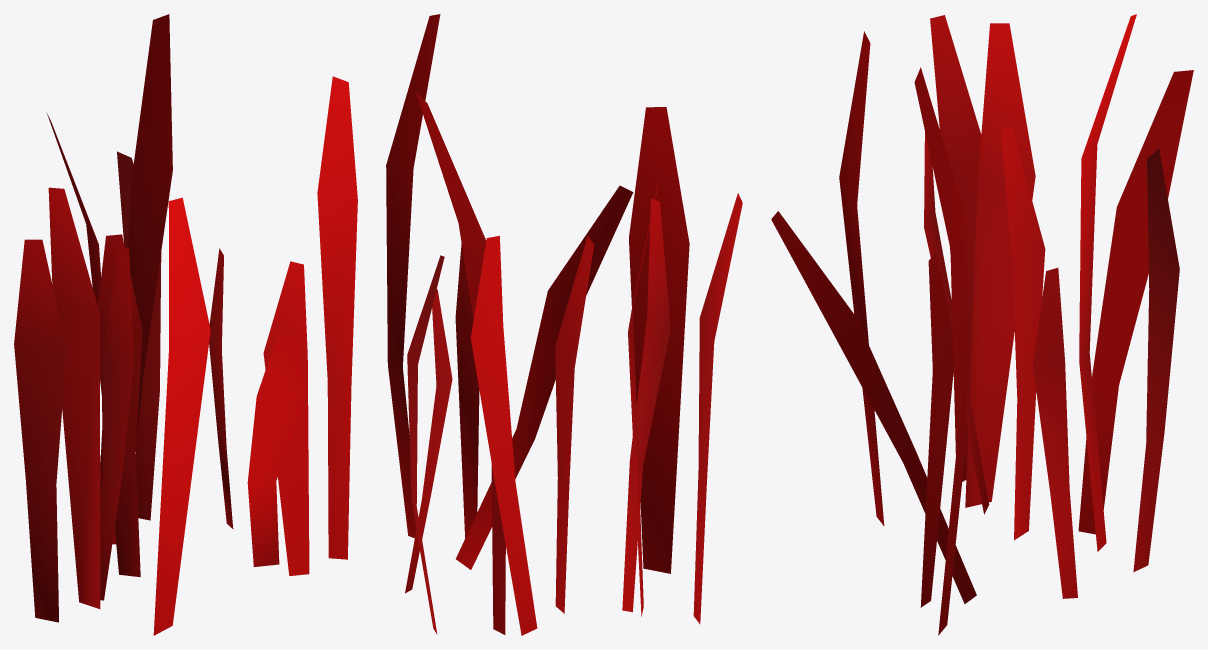
Rendered from SM_OatPlant_2.fbx.
3 views of the same model, side by side, from view 1: azimuth 30°, elevation 25°; view 2: azimuth 150°, elevation 25°; view 3: azimuth 270°, elevation 25° (orthographic). The views are drawn at different scales.
Visible parts, largest first — view 1: SM_OatPlant_2; view 2: SM_OatPlant_2; view 3: SM_OatPlant_2.
Boxes of the visible parts, box(x1,y1,x2,y2) form: SM_OatPlant_2: box(14, 14, 357, 635); SM_OatPlant_2: box(386, 14, 742, 635); SM_OatPlant_2: box(771, 14, 1193, 635).
Size of the model in its own units: 0.2563 by 0.3704 by 0.2485.
